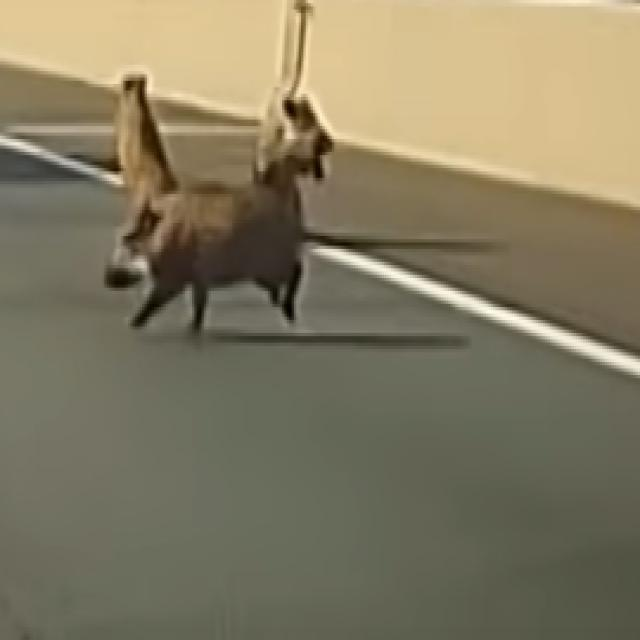boar: (85, 118, 355, 378)
